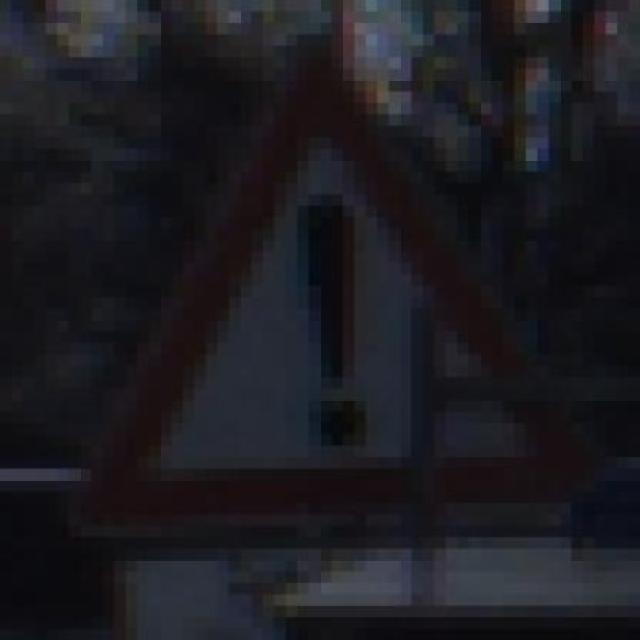Attention Please-: (91, 57, 594, 549)
